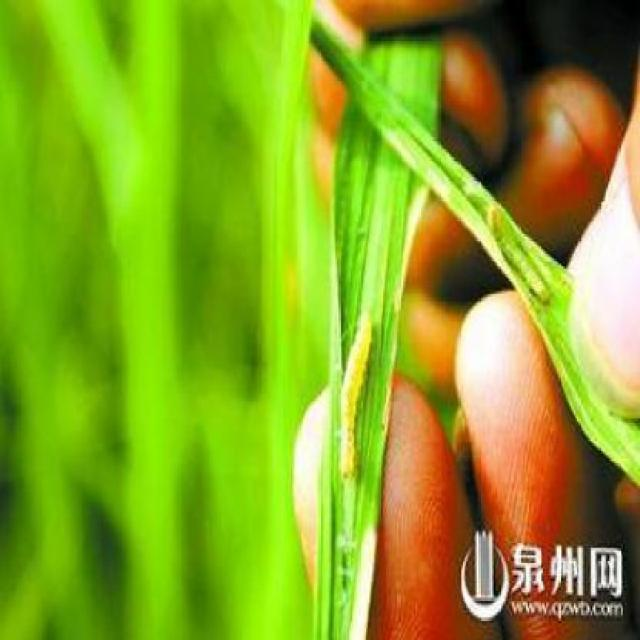leaf-folder: (314, 272, 392, 503), (449, 169, 557, 322)
